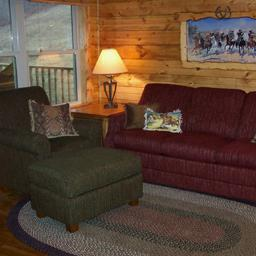Ventana: (5, 5, 77, 104)
